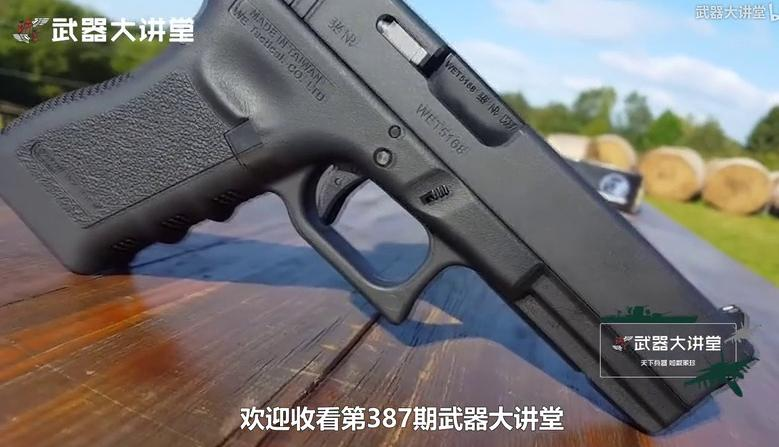gun: (1, 1, 779, 447)
